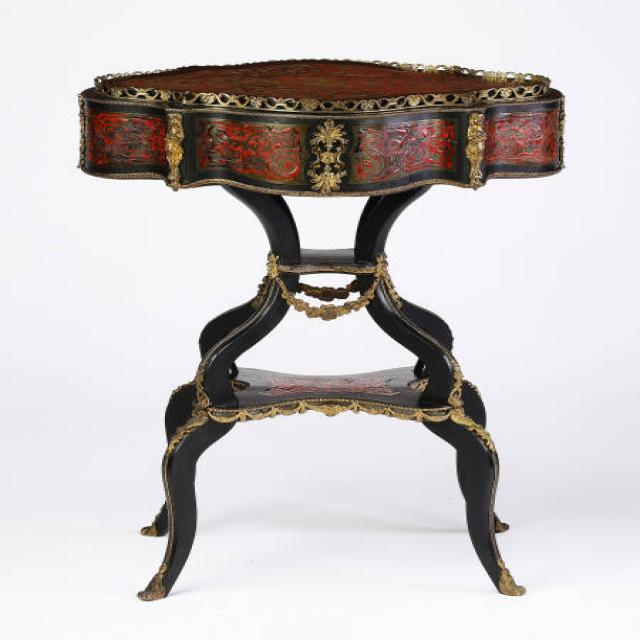table: (75, 58, 566, 602)
